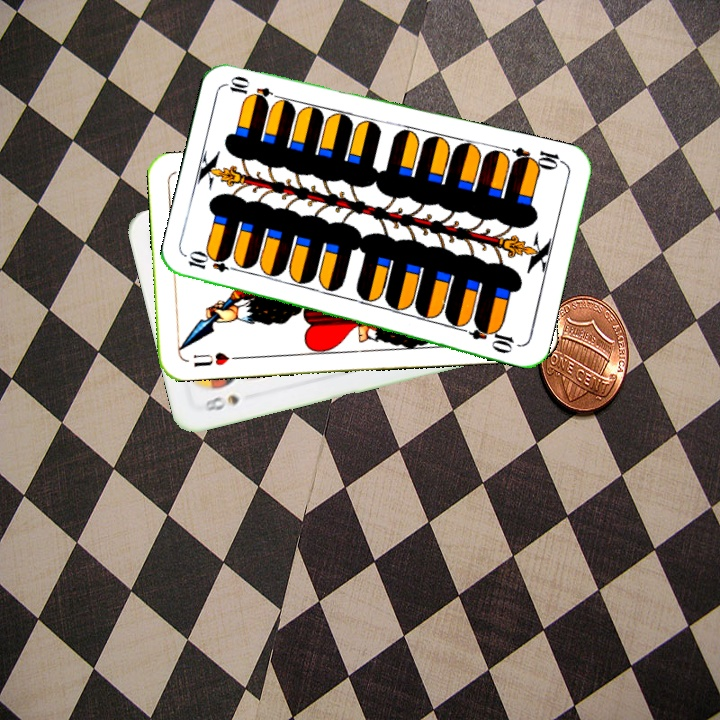E10: (508, 142, 567, 173), (184, 252, 243, 275)
HU: (189, 348, 232, 370)
S8: (197, 390, 243, 414)
